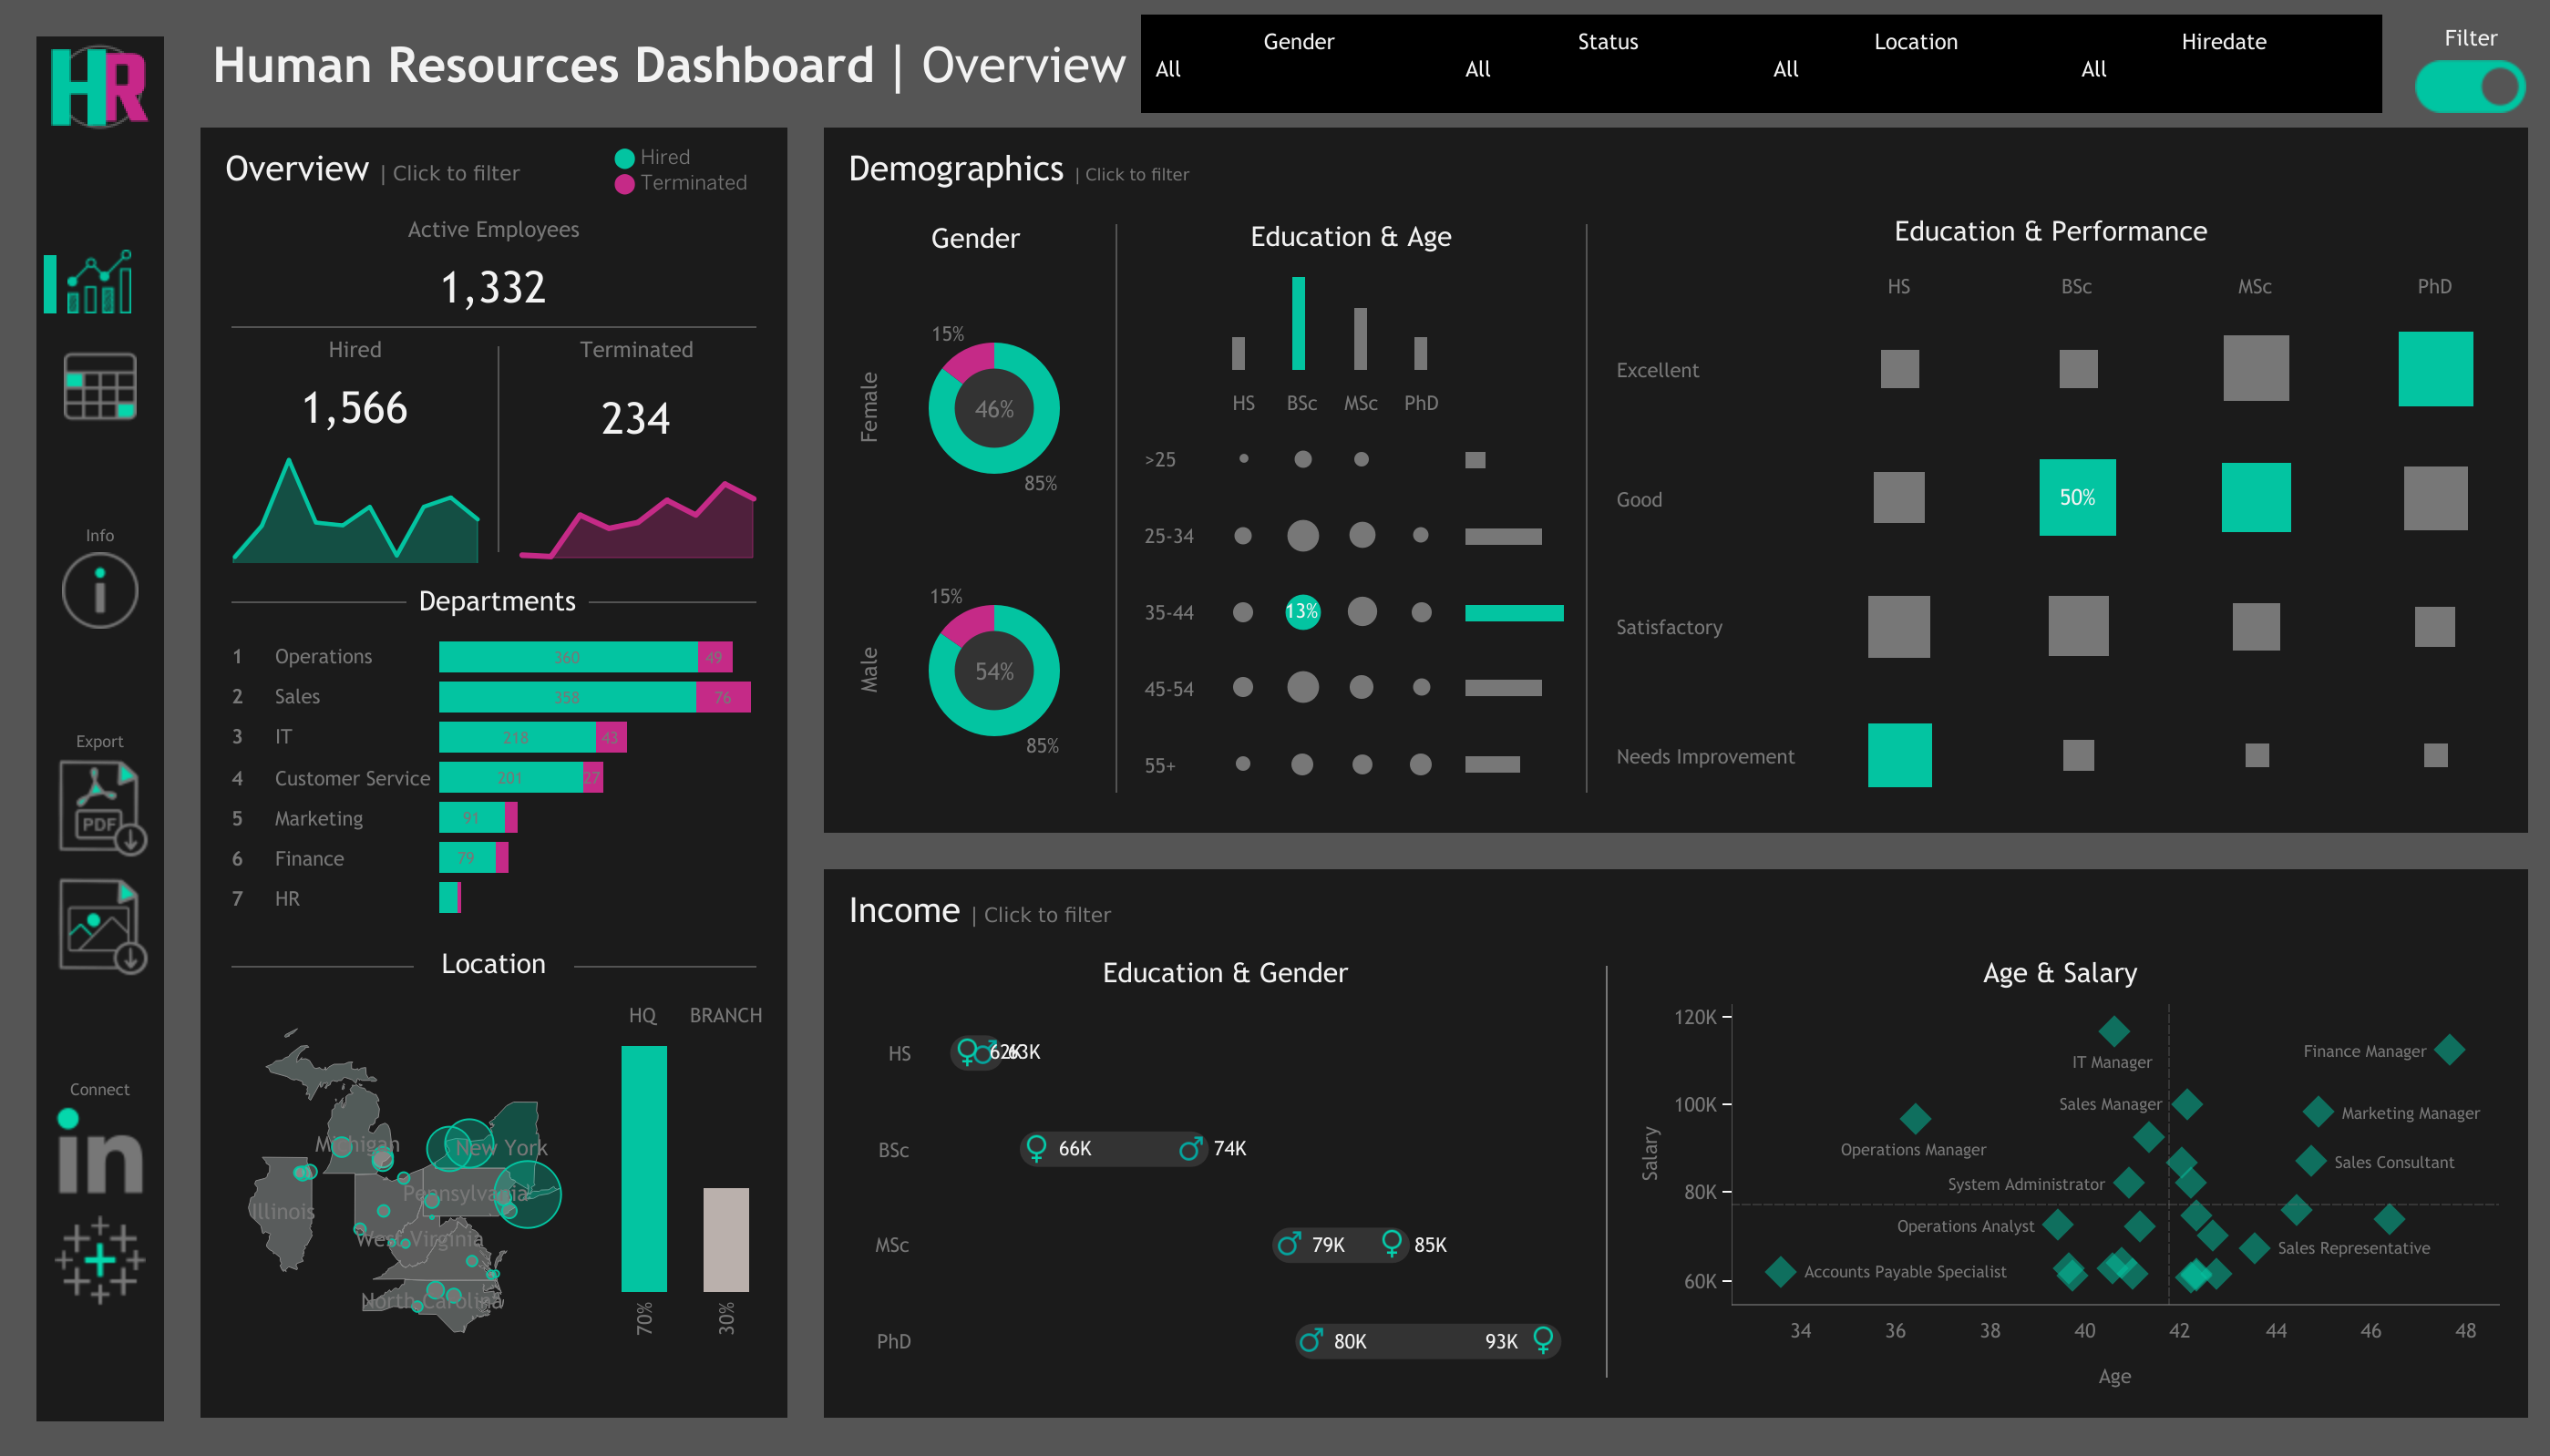

What the dashboard file says about the page in this screenshot:
{"tool":"tableau","page":{"name":"HR Summary","canvas":[1400,800],"ordinal":1},"visuals":[{"type":"image","param":"Image/background dashbaord summary.png","box":[0,0,1400,800]},{"type":"blank","box":[93,0,1307,281]},{"type":"text","box":[110,0,710,70]},{"type":"blank","box":[820,0,580,70]},{"type":"text","box":[1333,5,46,30]},{"type":"filter","title":"Gender vs Education Level","param":"[federated.1o8vd9z0bk55aj1f6zwsz1sjt4fe].[none:Gender:nk]","box":[628,10,170,50]},{"type":"filter","title":"Gender vs Education Level","param":"[federated.1o8vd9z0bk55aj1f6zwsz1sjt4fe].[none:Calculation_32440058653626380:nk]","box":[798,10,169,50]},{"type":"filter","title":"Gender vs Education Level","param":"[federated.1o8vd9z0bk55aj1f6zwsz1sjt4fe].[none:Calculation_5985283971688448006:n","box":[967,10,169,50]},{"type":"filter","title":"Gender vs Education Level","param":"[federated.1o8vd9z0bk55aj1f6zwsz1sjt4fe].[yr:Hiredate:ok]","box":[1136,10,169,50]},{"type":"image","param":"Image/Logo.png","box":[20,20,70,55]},{"type":"dashboard-object","box":[1325,25,61,45]},{"type":"blank","box":[20,75,70,52]},{"type":"text","box":[117,77,308,31]},{"type":"text","box":[459,77,921,31]},{"type":"text","box":[334,78,83,30]},{"type":"text","box":[117,108,308,28]},{"type":"text","box":[459,113,153,34]},{"type":"blank","box":[612,113,1,332]},{"type":"text","box":[618,113,247,32]},{"type":"blank","box":[870,113,1,332]},{"type":"text","box":[871,113,509,26]},{"type":"worksheet","title":"BAN Active","mark":"Automatic","box":[117,136,308,42]},{"type":"dashboard-object","box":[30,137,50,35]},{"type":"blank","box":[24,140,7,32]},{"type":"worksheet","title":"Education vs Performance","mark":"Square","rows":["Performance Rating"],"cols":["Education Level"],"box":[877,143,512,311]},{"type":"worksheet","title":"Education level","mark":"Bar","rows":["Calculation_5985283971178020864"],"cols":["Education Level"],"box":[618,145,247,62]},{"type":"worksheet","title":"Gender","mark":"Pie","rows":["Gender"],"cols":["Calculation_32440058237747201","Calculation_32440058237747201"],"box":[459,147,153,298]},{"type":"blank","box":[117,178,308,1]},{"type":"text","box":[117,179,156,22]},{"type":"blank","box":[273,179,1,133]},{"type":"text","box":[274,179,151,22]},{"type":"blank","box":[20,182,70,10]},{"type":"dashboard-object","box":[20,192,70,40]},{"type":"worksheet","title":"BAN Hired","mark":"Automatic","box":[117,201,156,41]},{"type":"worksheet","title":"BAN Terminated","mark":"Automatic","box":[274,201,151,55.1]},{"type":"worksheet","title":"Age vs Education","mark":"Circle","rows":["Calculation_32440058267869191"],"cols":["Education Level"],"box":[618,207,182,238]},{"type":"worksheet","title":"Age Group","mark":"Bar","rows":["Calculation_32440058267869191"],"cols":["Calculation_5985283971178020864"],"box":[800,207,65,238]},{"type":"blank","box":[20,232,70,52]},{"type":"worksheet","title":"Hired by Year","mark":"Automatic","rows":["Calculation_5985283971178020864","Calculation_5985283971178020864"],"cols":["Hiredate"],"box":[117,242,156,70]},{"type":"worksheet","title":"Terminated by Year","mark":"Automatic","rows":["Calculation_5985283971179073537","Calculation_5985283971179073537"],"cols":["Termdate"],"box":[274,256.1,151,55.9]},{"type":"text","box":[93,281,1307,261]},{"type":"text","box":[20,284,70,19]},{"type":"dashboard-object","box":[20,303,70,42]},{"type":"blank","box":[127,312,96,32]},{"type":"text","box":[223,312,100,32]},{"type":"blank","box":[323,312,92,32]},{"type":"worksheet","title":"Departments","mark":"Bar","rows":["Calculation_5985283971686428677","Department"],"cols":["Calculation_5985283971178020864"],"box":[117,344,308,163]},{"type":"blank","box":[20,345,70,52]},{"type":"text","box":[20,397,70,19]},{"type":"dashboard-object","box":[20,416,70,55]},{"type":"blank","box":[20,471,70,10]},{"type":"dashboard-object","box":[20,481,70,55]},{"type":"text","box":[459,484,921,31]},{"type":"blank","box":[127,512,100,30]},{"type":"text","box":[227,512,88,30]},{"type":"blank","box":[315,512,100,30]},{"type":"text","box":[469,520,407,26]},{"type":"blank","box":[881,520,1,246]},{"type":"text","box":[887,520,488,26]},{"type":"blank","box":[20,536,70,52]},{"type":"blank","box":[93,542,1307,258]},{"type":"worksheet","title":"Map States","mark":"Automatic","box":[117,542,210,210]},{"type":"worksheet","title":"Locations","mark":"Bar","rows":["Calculation_5985283971178020864"],"cols":["Calculation_5985283971688448006","Calculation1"],"box":[327,542,98,210]},{"type":"worksheet","title":"Gender vs Education Level","mark":"Line","rows":["Education Level"],"cols":["Salary","Salary"],"box":[469,546,407,220]},{"type":"worksheet","title":"Age vs Salary","mark":"Shape","rows":["Salary"],"cols":["Calculation_32440058266820614"],"box":[887,546,488,220]},{"type":"text","box":[20,588,70,19]},{"type":"image","param":"Image/contact-linkedin.png","box":[20,607,70,50]},{"type":"blank","box":[20,657,70,10]},{"type":"image","param":"Image/contact-public.png","box":[20,667,70,50]}]}

Visuals, with their boxes on the page's 1400x800 design canvas (x1, y1, x2, y2). These are canvas units, not pixel positions in the 2550x1456 screenshot, which may show the page scaled, cropped or inside an application window:
image: x1=0 y1=0 x2=1400 y2=800
blank: x1=93 y1=0 x2=1400 y2=281
text: x1=110 y1=0 x2=820 y2=70
blank: x1=820 y1=0 x2=1400 y2=70
text: x1=1333 y1=5 x2=1379 y2=35
"Gender vs Education Level" filter: x1=628 y1=10 x2=798 y2=60
"Gender vs Education Level" filter: x1=798 y1=10 x2=967 y2=60
"Gender vs Education Level" filter: x1=967 y1=10 x2=1136 y2=60
"Gender vs Education Level" filter: x1=1136 y1=10 x2=1305 y2=60
image: x1=20 y1=20 x2=90 y2=75
dashboard-object: x1=1325 y1=25 x2=1386 y2=70
blank: x1=20 y1=75 x2=90 y2=127
text: x1=117 y1=77 x2=425 y2=108
text: x1=459 y1=77 x2=1380 y2=108
text: x1=334 y1=78 x2=417 y2=108
text: x1=117 y1=108 x2=425 y2=136
text: x1=459 y1=113 x2=612 y2=147
blank: x1=612 y1=113 x2=613 y2=445
text: x1=618 y1=113 x2=865 y2=145
blank: x1=870 y1=113 x2=871 y2=445
text: x1=871 y1=113 x2=1380 y2=139
"BAN Active" worksheet: x1=117 y1=136 x2=425 y2=178
dashboard-object: x1=30 y1=137 x2=80 y2=172
blank: x1=24 y1=140 x2=31 y2=172
"Education vs Performance" worksheet (Square marks): x1=877 y1=143 x2=1389 y2=454
"Education level" worksheet (Bar marks): x1=618 y1=145 x2=865 y2=207
"Gender" worksheet (Pie marks): x1=459 y1=147 x2=612 y2=445
blank: x1=117 y1=178 x2=425 y2=179
text: x1=117 y1=179 x2=273 y2=201
blank: x1=273 y1=179 x2=274 y2=312
text: x1=274 y1=179 x2=425 y2=201
blank: x1=20 y1=182 x2=90 y2=192
dashboard-object: x1=20 y1=192 x2=90 y2=232
"BAN Hired" worksheet: x1=117 y1=201 x2=273 y2=242
"BAN Terminated" worksheet: x1=274 y1=201 x2=425 y2=256
"Age vs Education" worksheet (Circle marks): x1=618 y1=207 x2=800 y2=445
"Age Group" worksheet (Bar marks): x1=800 y1=207 x2=865 y2=445
blank: x1=20 y1=232 x2=90 y2=284
"Hired by Year" worksheet: x1=117 y1=242 x2=273 y2=312
"Terminated by Year" worksheet: x1=274 y1=256 x2=425 y2=312
text: x1=93 y1=281 x2=1400 y2=542
text: x1=20 y1=284 x2=90 y2=303
dashboard-object: x1=20 y1=303 x2=90 y2=345
blank: x1=127 y1=312 x2=223 y2=344
text: x1=223 y1=312 x2=323 y2=344
blank: x1=323 y1=312 x2=415 y2=344
"Departments" worksheet (Bar marks): x1=117 y1=344 x2=425 y2=507
blank: x1=20 y1=345 x2=90 y2=397
text: x1=20 y1=397 x2=90 y2=416
dashboard-object: x1=20 y1=416 x2=90 y2=471
blank: x1=20 y1=471 x2=90 y2=481
dashboard-object: x1=20 y1=481 x2=90 y2=536
text: x1=459 y1=484 x2=1380 y2=515
blank: x1=127 y1=512 x2=227 y2=542
text: x1=227 y1=512 x2=315 y2=542
blank: x1=315 y1=512 x2=415 y2=542
text: x1=469 y1=520 x2=876 y2=546
blank: x1=881 y1=520 x2=882 y2=766
text: x1=887 y1=520 x2=1375 y2=546
blank: x1=20 y1=536 x2=90 y2=588
blank: x1=93 y1=542 x2=1400 y2=800
"Map States" worksheet: x1=117 y1=542 x2=327 y2=752
"Locations" worksheet (Bar marks): x1=327 y1=542 x2=425 y2=752
"Gender vs Education Level" worksheet (Line marks): x1=469 y1=546 x2=876 y2=766
"Age vs Salary" worksheet (Shape marks): x1=887 y1=546 x2=1375 y2=766
text: x1=20 y1=588 x2=90 y2=607
image: x1=20 y1=607 x2=90 y2=657
blank: x1=20 y1=657 x2=90 y2=667
image: x1=20 y1=667 x2=90 y2=717
